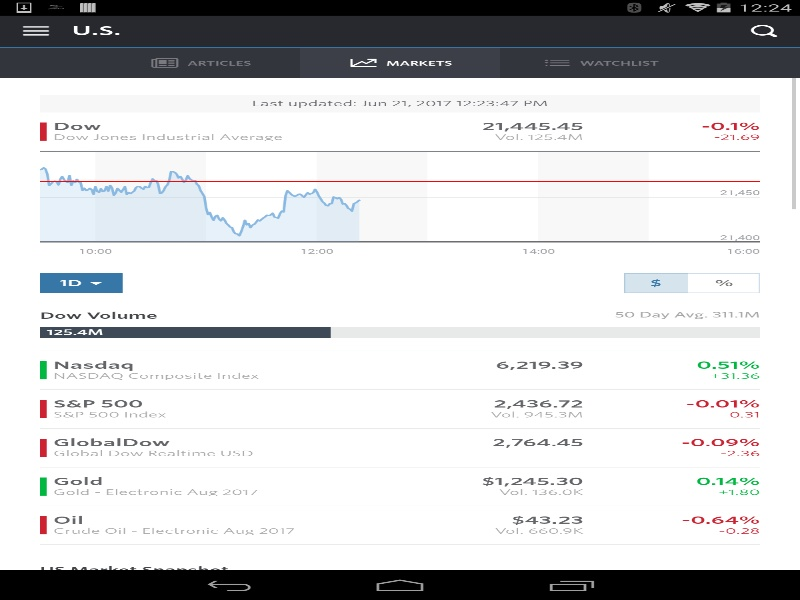Button: (26, 31, 230, 54), (236, 31, 440, 54), (688, 273, 760, 293), (622, 273, 689, 293), (20, 15, 52, 46), (748, 15, 780, 46)
Input: (373, 56, 760, 78)
